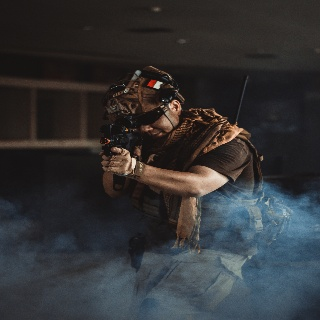rifle: (99, 112, 136, 191)
